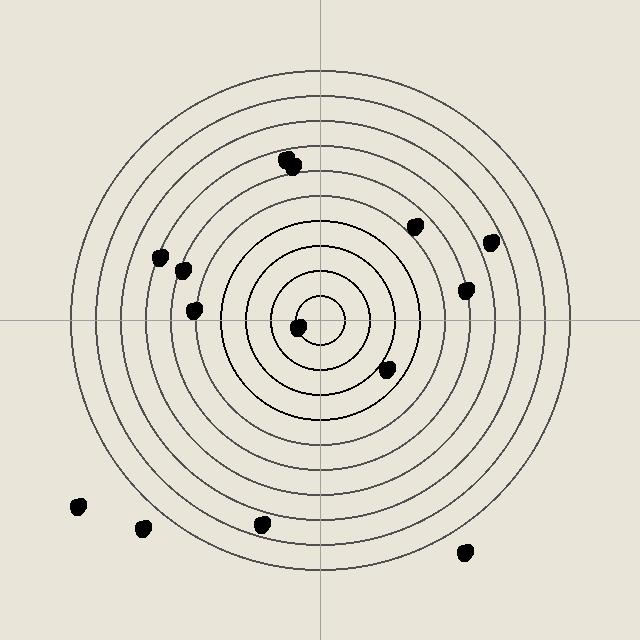random_scatter: (251, 514, 271, 534), (455, 280, 475, 300), (480, 232, 500, 252), (454, 542, 474, 562), (404, 216, 424, 236), (172, 260, 192, 280), (275, 149, 295, 169), (149, 247, 169, 267), (287, 317, 307, 337), (282, 156, 302, 176), (376, 359, 396, 379), (183, 300, 203, 320), (132, 518, 152, 538), (67, 496, 87, 516)
